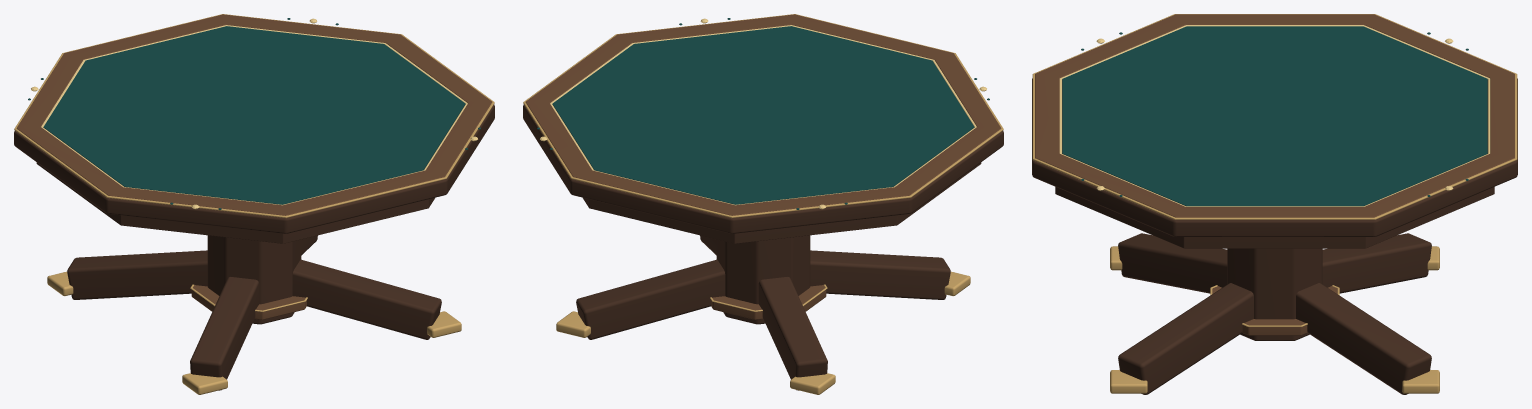
The model's file is SM_Liars_Table.fbx.
3 views of the same model, side by side, from view 1: azimuth 30°, elevation 25°; view 2: azimuth 150°, elevation 25°; view 3: azimuth 270°, elevation 25° (orthographic). The views are drawn at different scales.
Parts seen in each view (by area): view 1: SM_Liars_Table; view 2: SM_Liars_Table; view 3: SM_Liars_Table.
Part boxes in pixels (bbox=[...]): SM_Liars_Table: bbox=[14, 14, 494, 394]; SM_Liars_Table: bbox=[523, 14, 1003, 394]; SM_Liars_Table: bbox=[1032, 14, 1517, 394].
Size of the model in its own units: 155 by 155 by 77.12.
